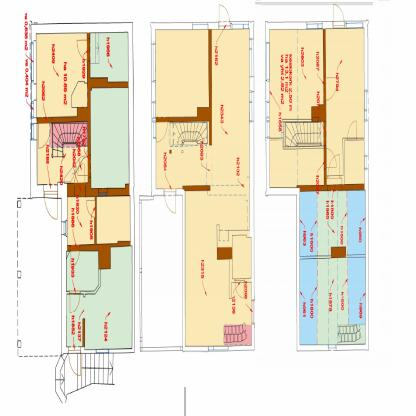door: (44, 191, 58, 222), (37, 123, 53, 150), (218, 5, 233, 32), (165, 186, 178, 214), (328, 151, 340, 178), (84, 198, 97, 222), (334, 4, 346, 29), (324, 79, 338, 99), (157, 120, 169, 141), (77, 165, 90, 184), (76, 39, 86, 63), (69, 291, 81, 311), (70, 248, 82, 268), (325, 150, 337, 167), (235, 278, 245, 298), (348, 120, 358, 138)
window: (29, 42, 36, 87), (345, 19, 363, 29), (152, 43, 156, 86), (194, 22, 210, 32), (266, 102, 270, 141), (249, 90, 254, 121), (266, 43, 270, 81), (364, 88, 368, 124), (233, 23, 248, 32), (30, 105, 34, 138), (152, 101, 156, 134), (305, 22, 323, 29), (208, 344, 227, 350), (250, 36, 254, 50), (364, 156, 368, 169)
zone: (156, 28, 252, 344), (300, 193, 365, 344), (270, 25, 326, 186), (18, 199, 62, 355), (68, 249, 131, 348), (143, 197, 184, 348), (326, 29, 366, 182), (156, 27, 210, 116), (36, 32, 88, 116), (90, 88, 130, 191), (155, 119, 211, 185), (36, 119, 88, 182), (95, 194, 132, 245), (92, 33, 128, 83), (69, 194, 94, 245), (344, 134, 364, 184)
